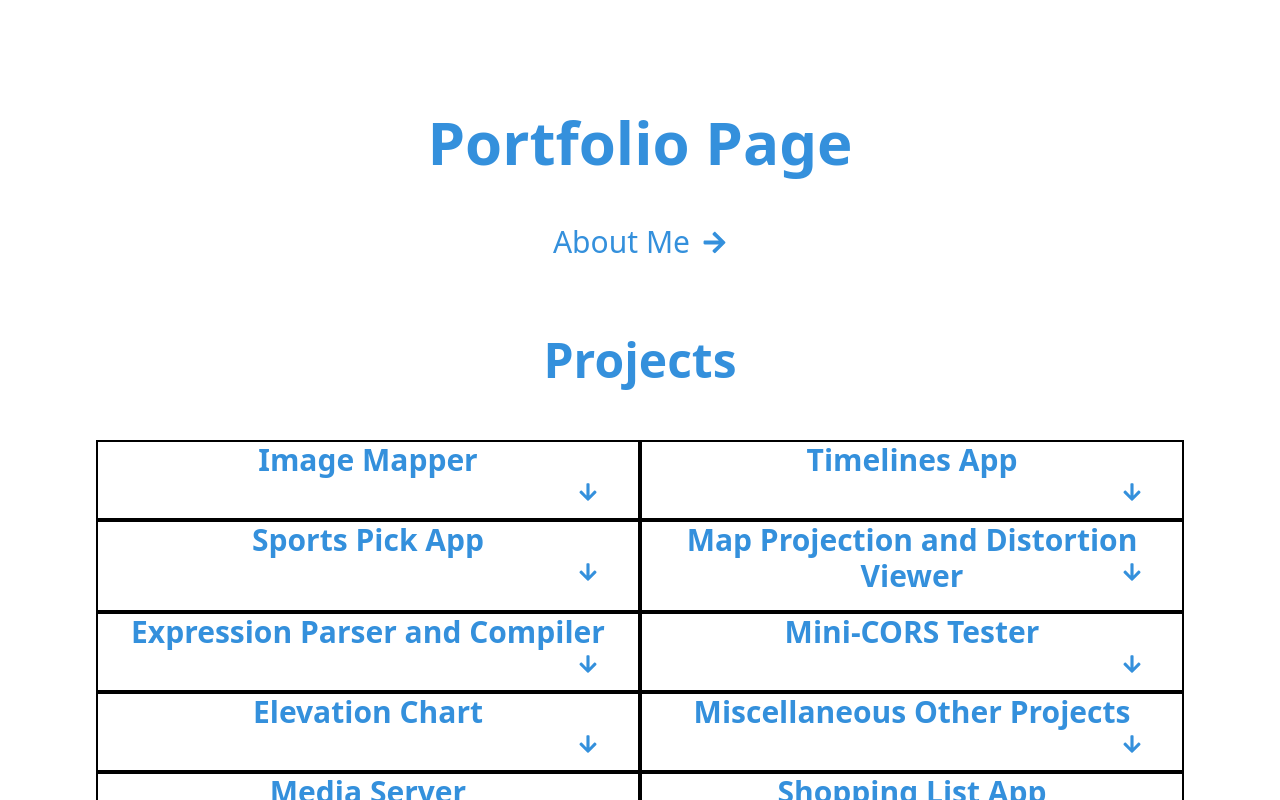
Test: Page › renders a heading
Expected: the text "Miscellaneous Other Projects that I have worked on." is not shown
Click the div to open the section
Click the heading "Miscellaneous Other Projects" at {"x": 912, "y": 712}, box left=694, top=691, right=1130, bottom=732
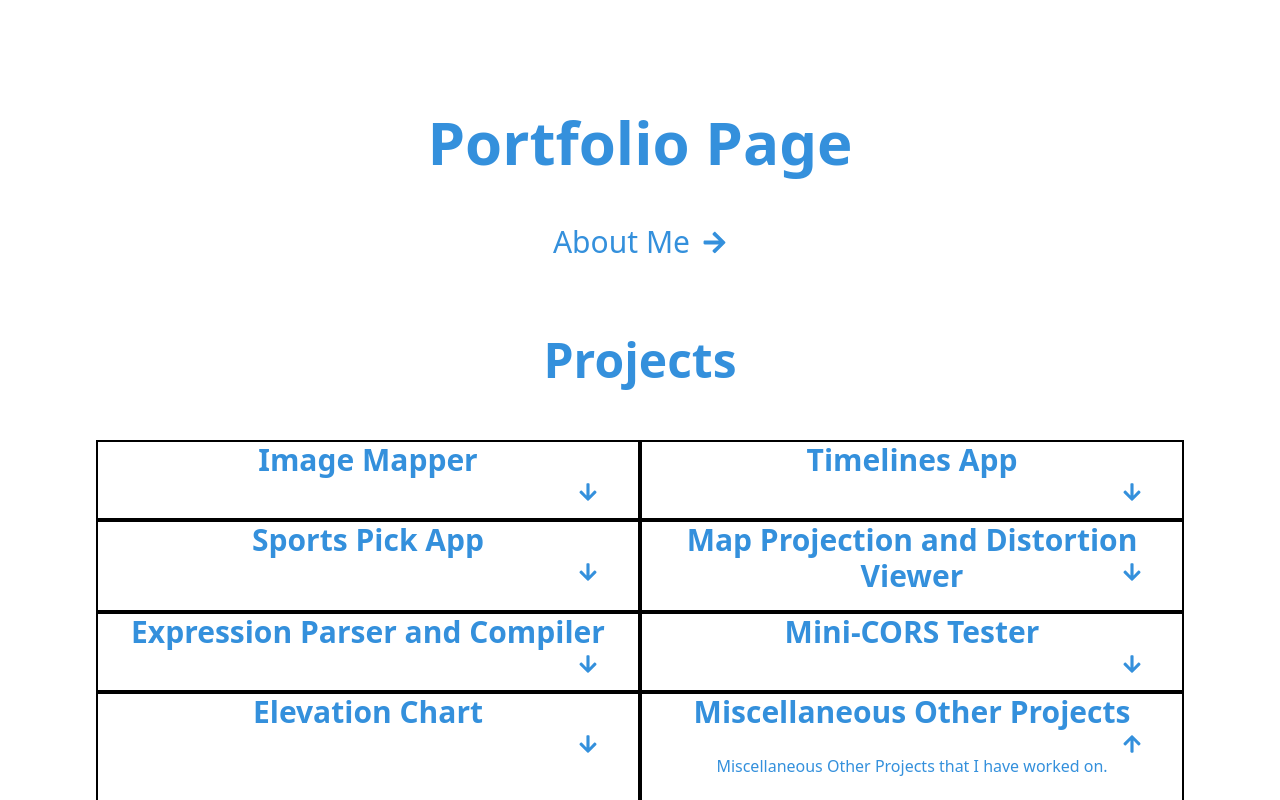
Result: the text "Miscellaneous Other Projects that I have worked on." is shown at left=716, top=755, right=1108, bottom=777
Click the div again to close the section
Click the heading "Miscellaneous Other Projects" at {"x": 912, "y": 712}, box left=694, top=691, right=1130, bottom=732
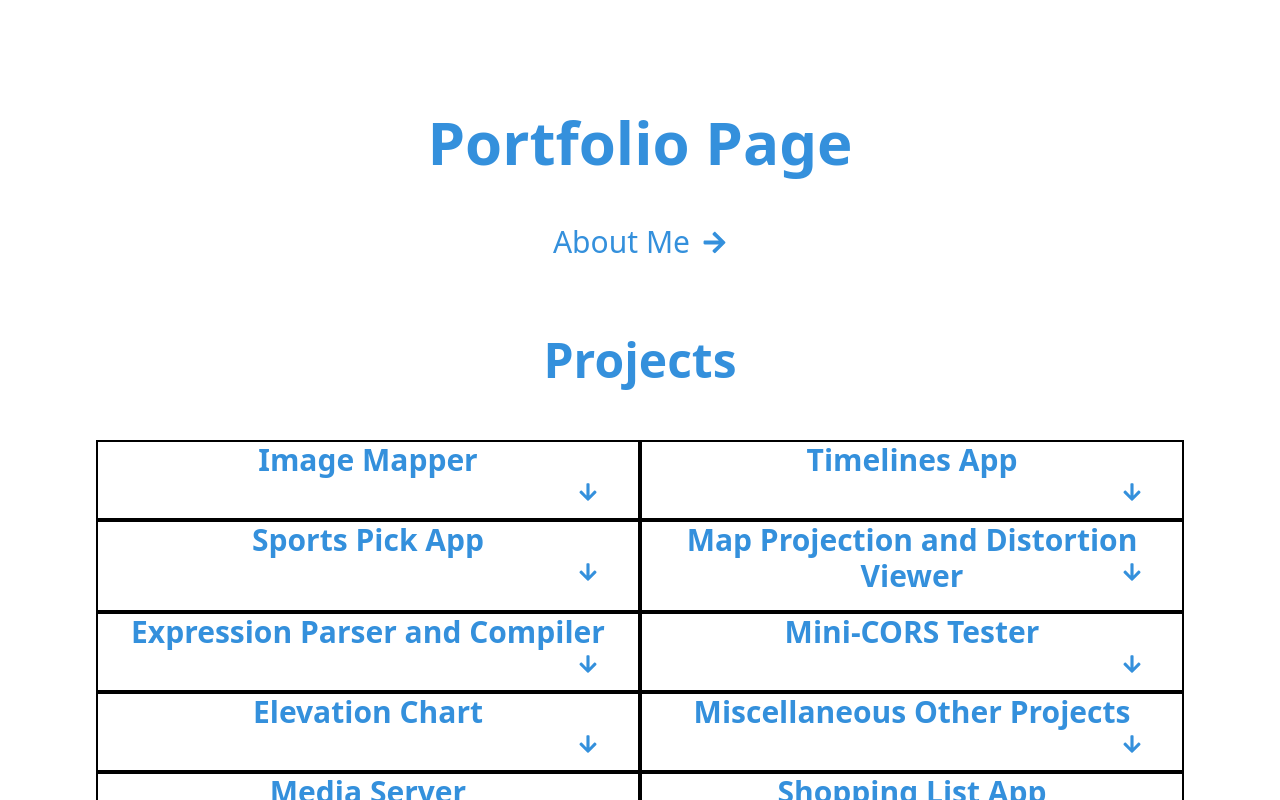
Result: the text "Miscellaneous Other Projects that I have worked on." is gone
Click the heading "Miscellaneous Other Projects" at {"x": 912, "y": 712}, box left=694, top=691, right=1130, bottom=732
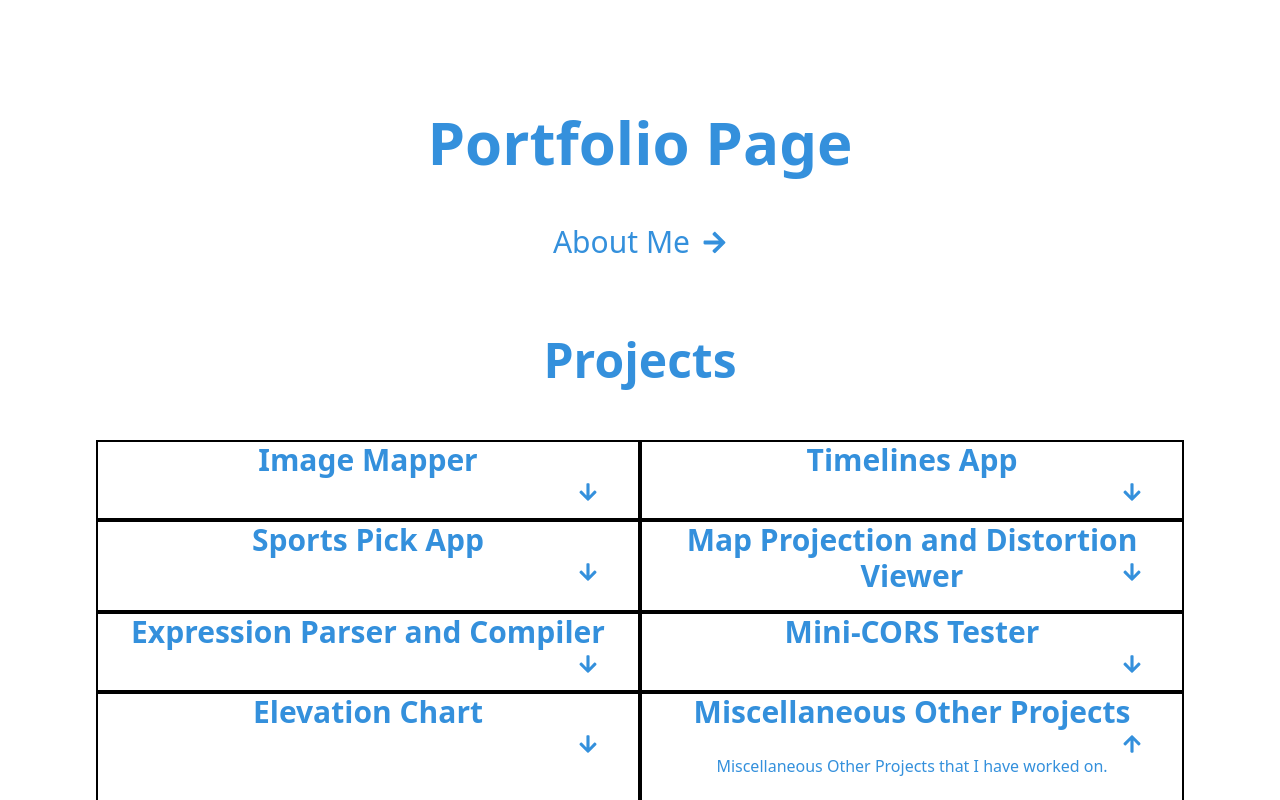
Result: the text "Miscellaneous Other Projects that I have worked on." is shown at left=716, top=755, right=1108, bottom=777
